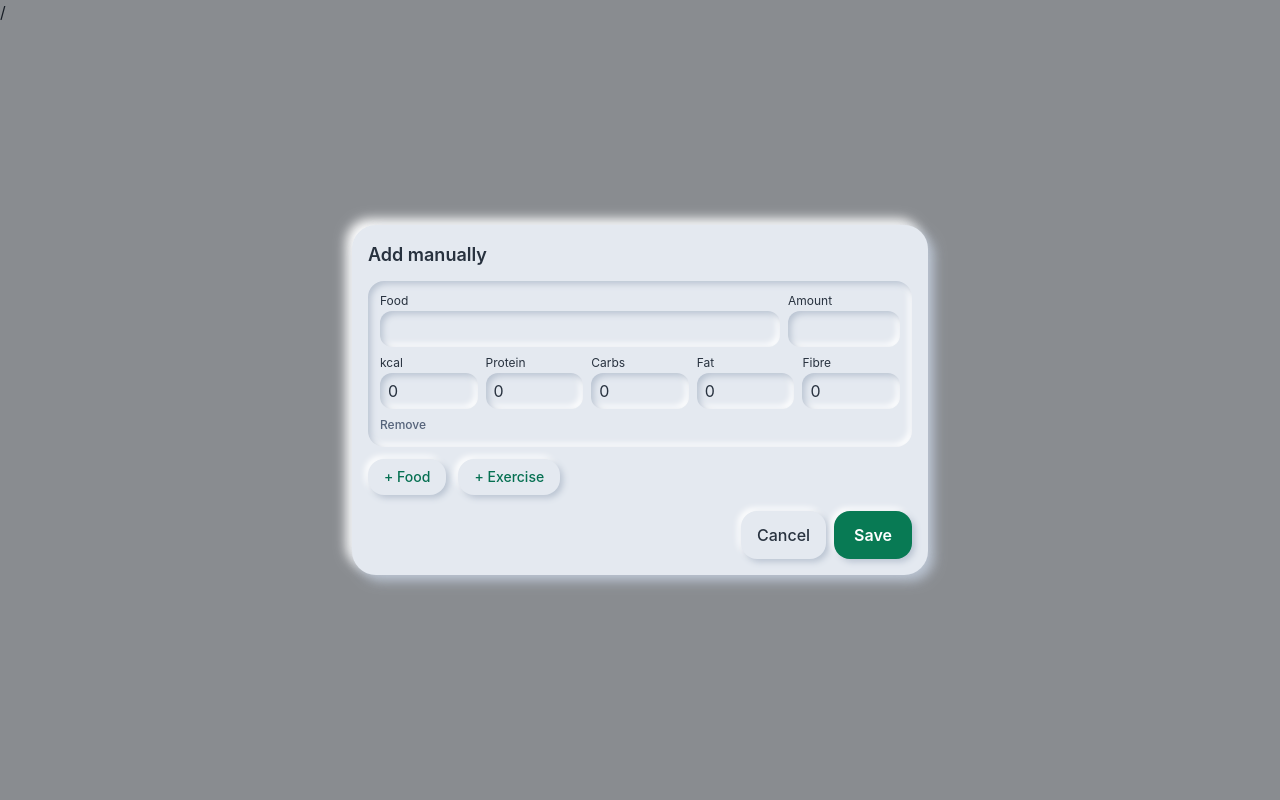
Test: EntryEditor › features the person's own four, and keeps every other activity in the grid
This screenshot has width=1280, height=800.
Click the button "+ Exercise": (509, 477) [458, 459, 560, 495]
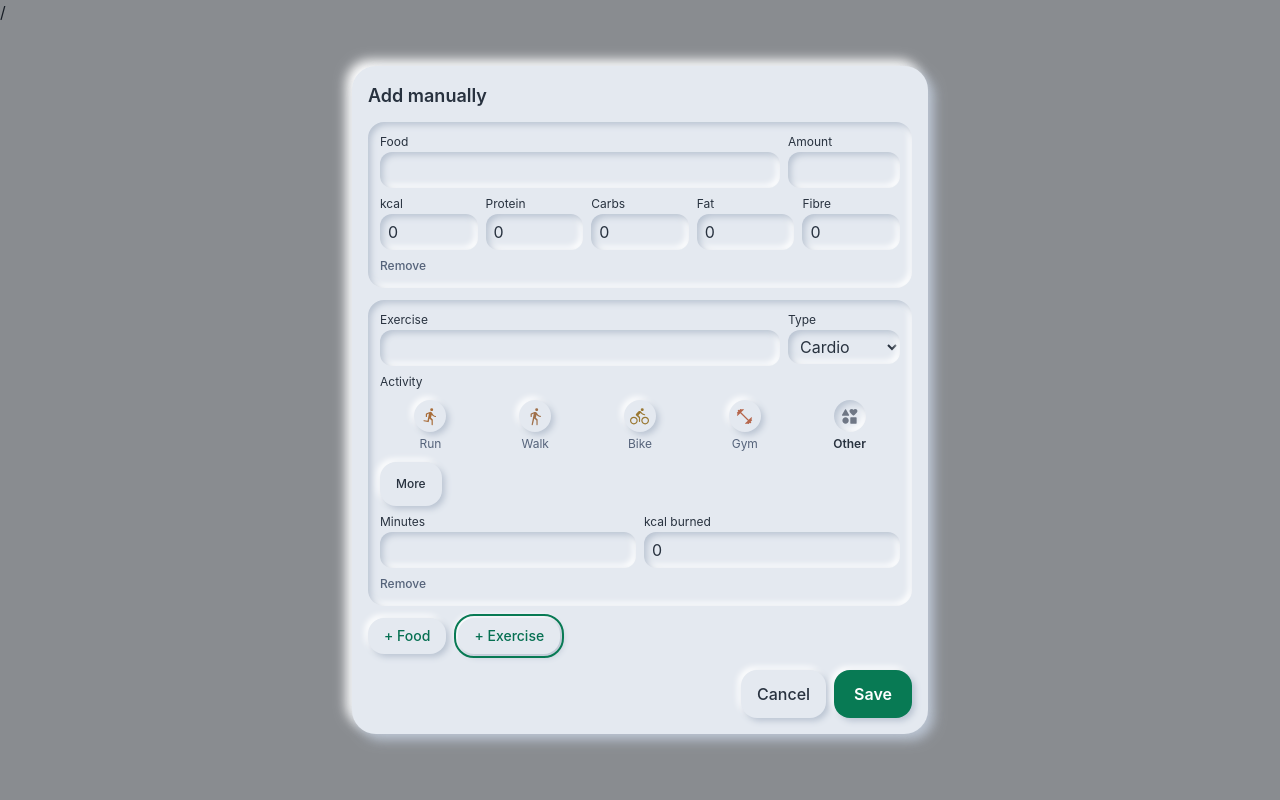
Click the button "More": (411, 484) [380, 462, 442, 506]
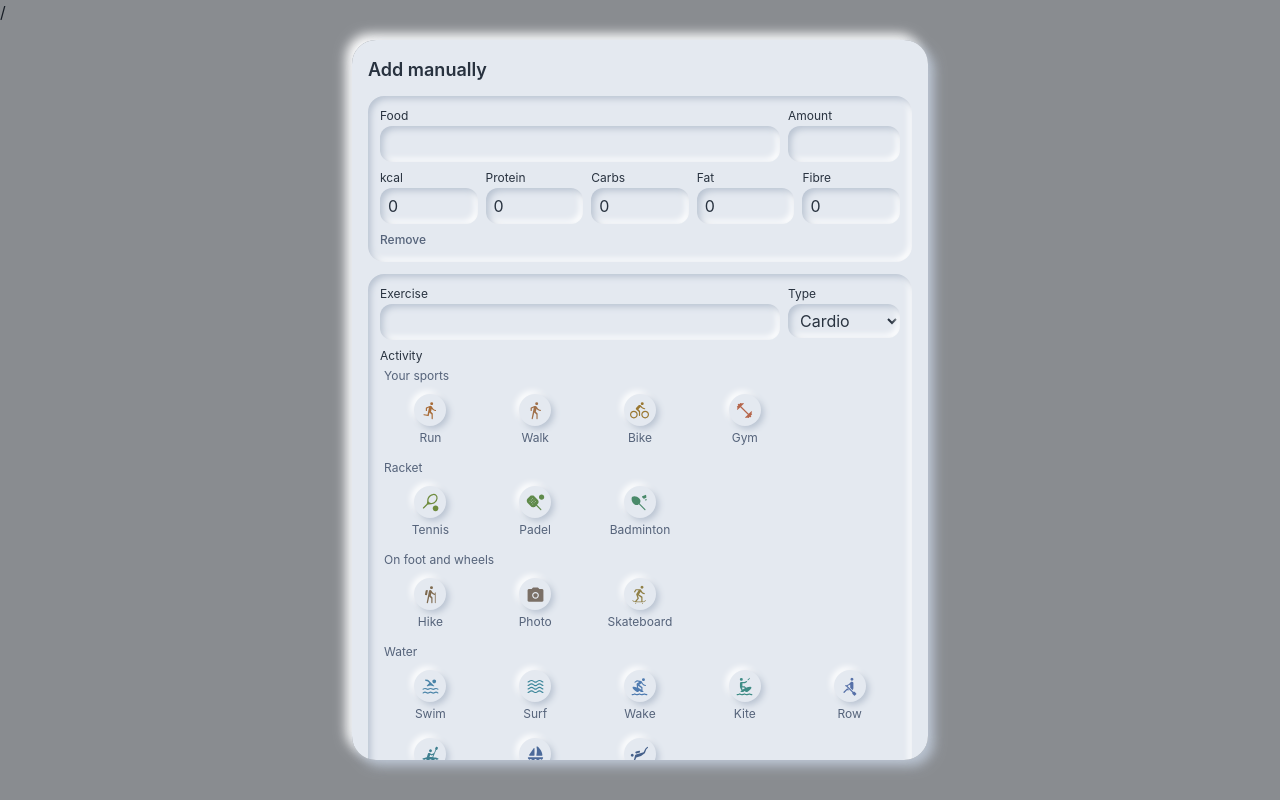
Check: the text "Your sports" is shown, box [384, 368, 449, 383]
Check: the radio button labelled "Tennis" is shown, box [412, 486, 449, 537]
